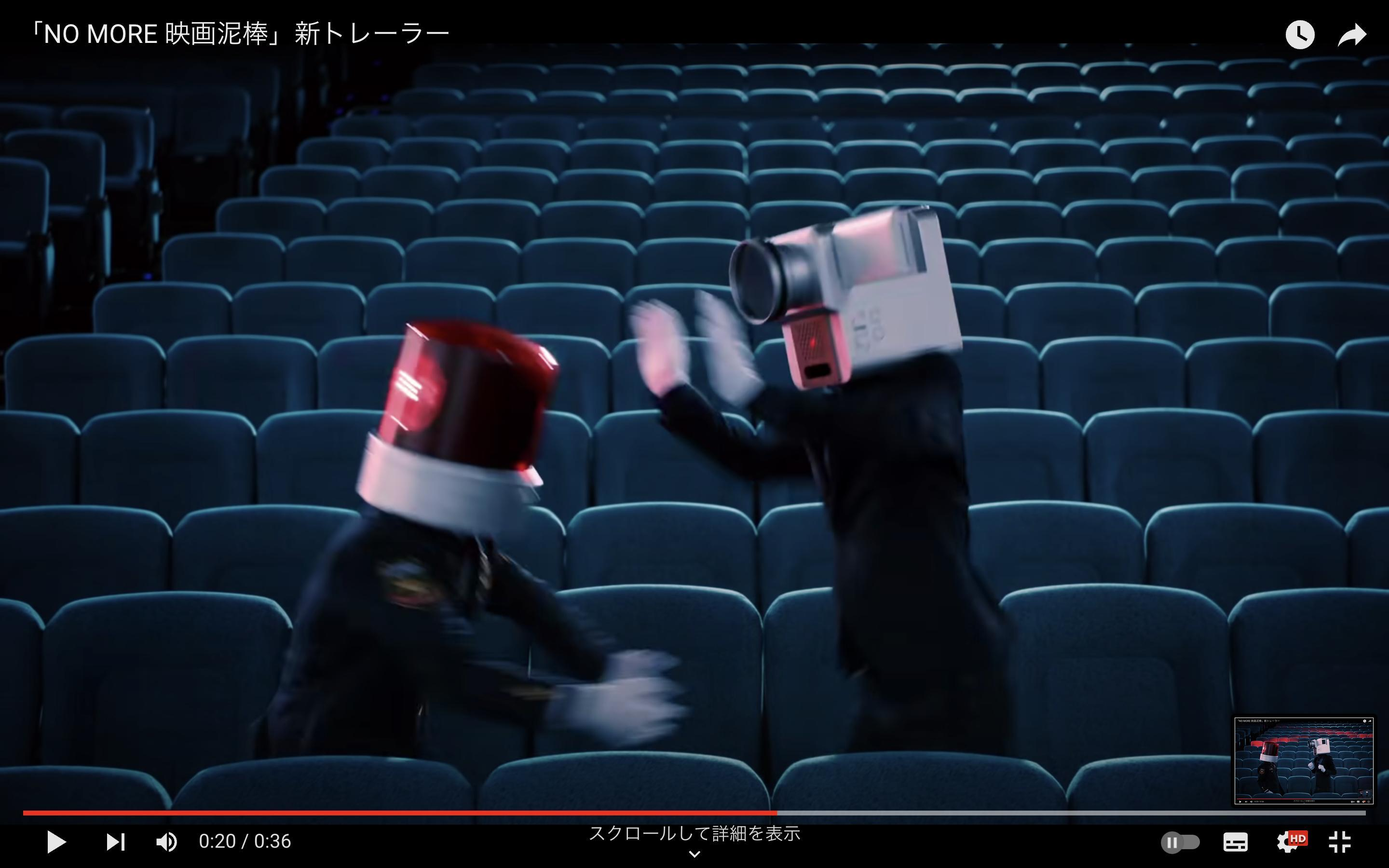no more kid: (726, 203, 968, 391)
